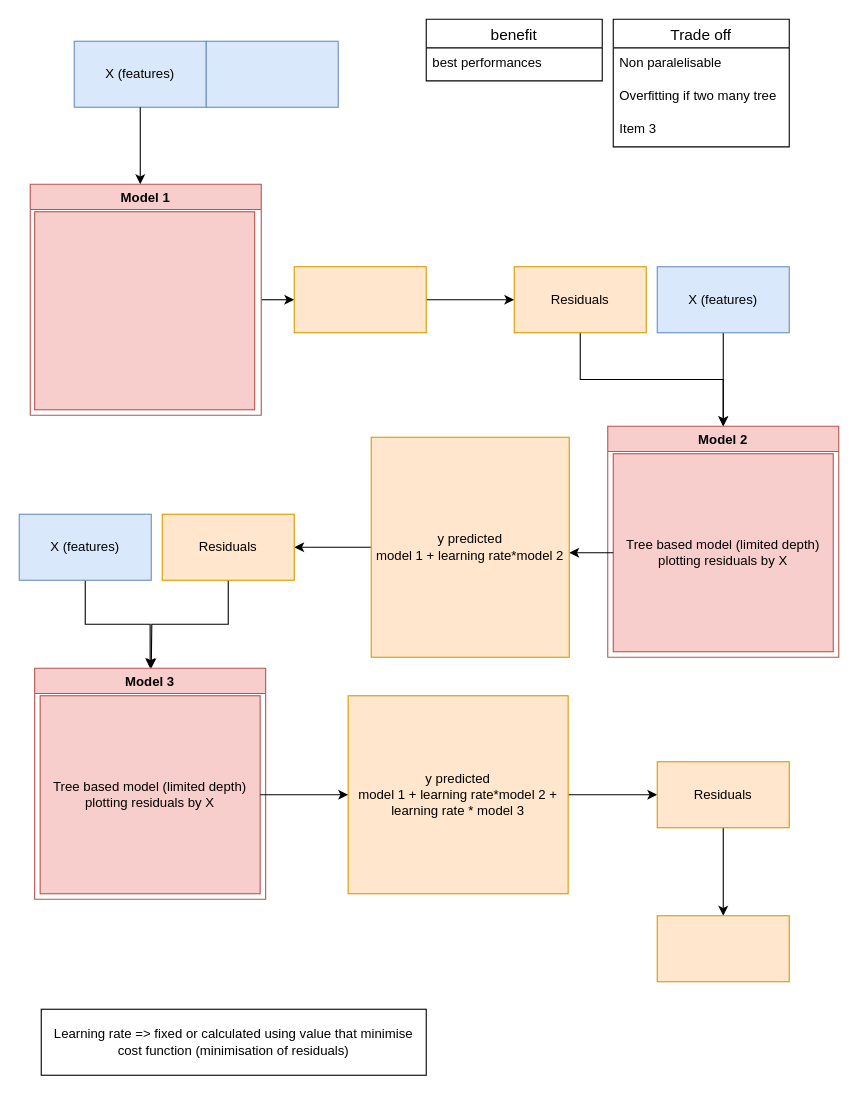
This 858x1095 diagram has some shape labels left out. The centre of each missing label's shape, as x and y in pixels:
Continue fitting models to residuals until residuals become small: the point at 722,948
Makes naives predictions of y: the point at 144,310
y (target): the point at 271,73
y predicted: the point at 359,299
